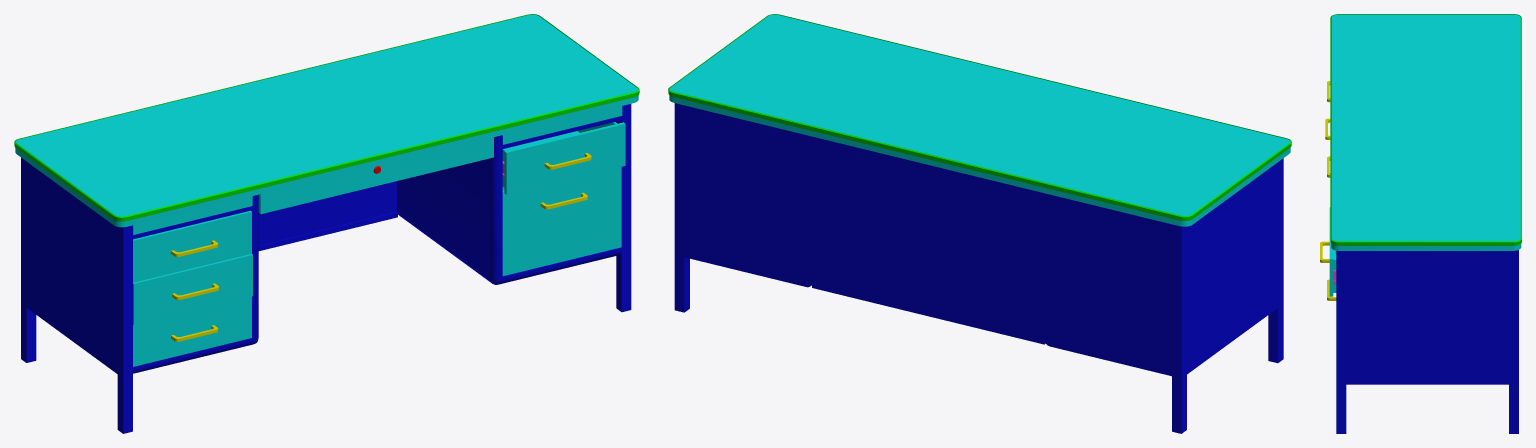
File: VintageDesk.fbx
3 renders of one model, left to right at view 1: azimuth 30°, elevation 25°; view 2: azimuth 150°, elevation 25°; view 3: azimuth 270°, elevation 25°, orthographic. The views are drawn at different scales.
Visible parts, largest first — view 1: Cube.005; view 2: Cube.005; view 3: Cube.005.
Boxes of the visible parts, x1,y1,x2,y2 form: Cube.005: (14, 14, 639, 433); Cube.005: (668, 14, 1291, 433); Cube.005: (1320, 14, 1521, 433).
Size of the model in its own units: 229 by 91.41 by 85.44.
